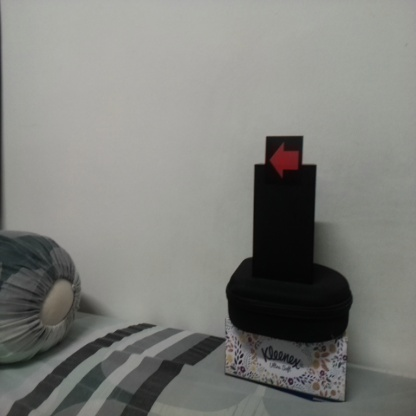id_4: (265, 137, 303, 186)
